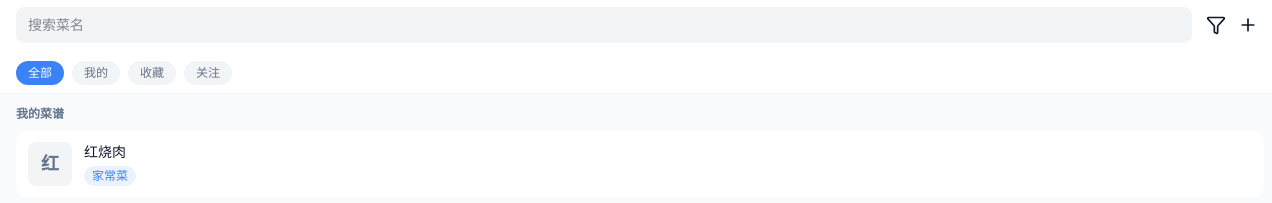
Test case: RecipeList › 未登录时不渲染社区段，关注 tab 给登录提示（C3 回归）
Click the button with test id "tab-follow" at (208, 73), box [184,61,232,85]
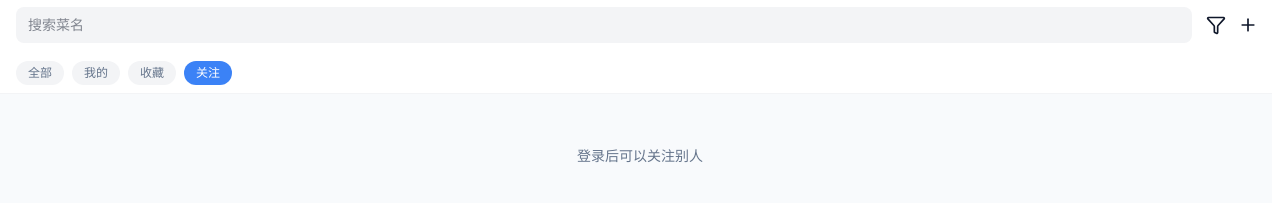
expect the text with test id "follow-login-hint" shows "登录后": met, box [577,147,703,164]
